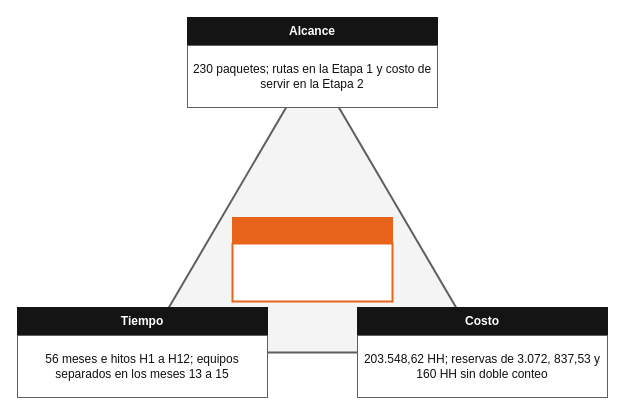
Some shapes in this 625 by 415 pixel diagram are drawn without their labels. Here are the shapes that lost their labels. From the top down, the centre of each, then its label:
At point 312,230: "Calidad".
At point 312,272: "12.058,66 HH de conformidad; puertas bloqueantes y WMS por olas".
